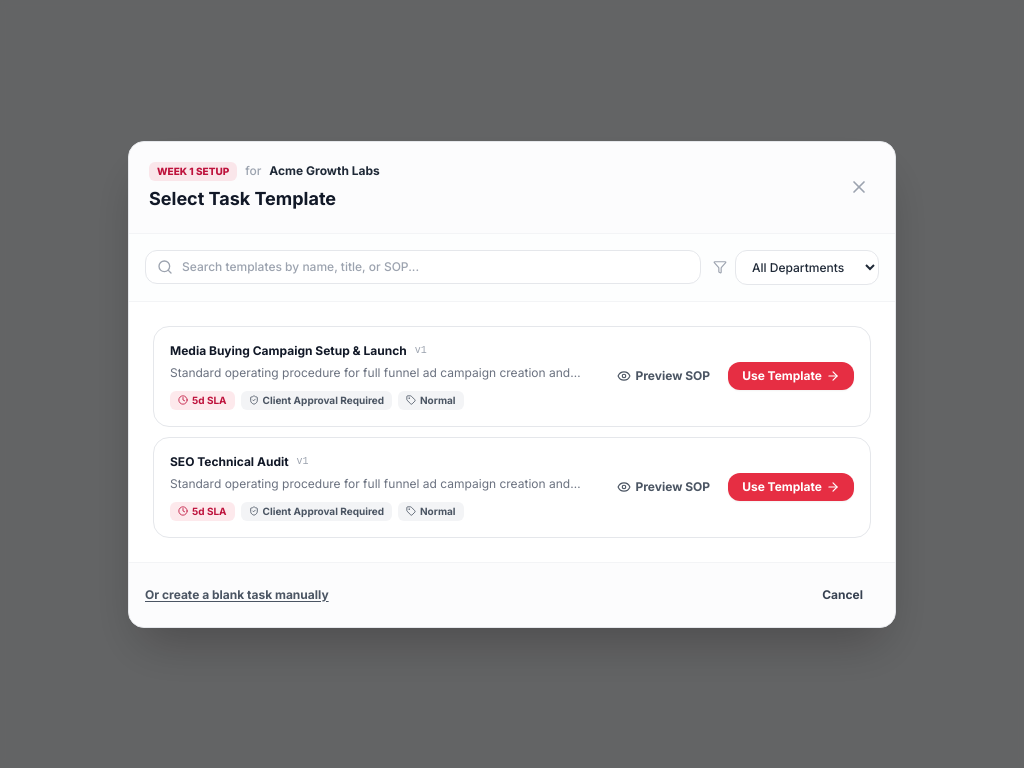
Test: Phase 3C: Task Templates System Comprehensive Suite › 3. Task Template Picker Modal › 3.2 Filters templates by search query
The width and height of the screenshot is (1024, 768).
Expected: the text "Media Buying Campaign Setup & Launch" is shown, [170,342,407,358]
Expected: the text "SEO Technical Audit" is shown, [170,454,289,470]
Type "SEO" into the field with placeholder "Search templates by name, title, or SOP...".
click(423, 266); type("SEO")  # box [145,250,701,284]
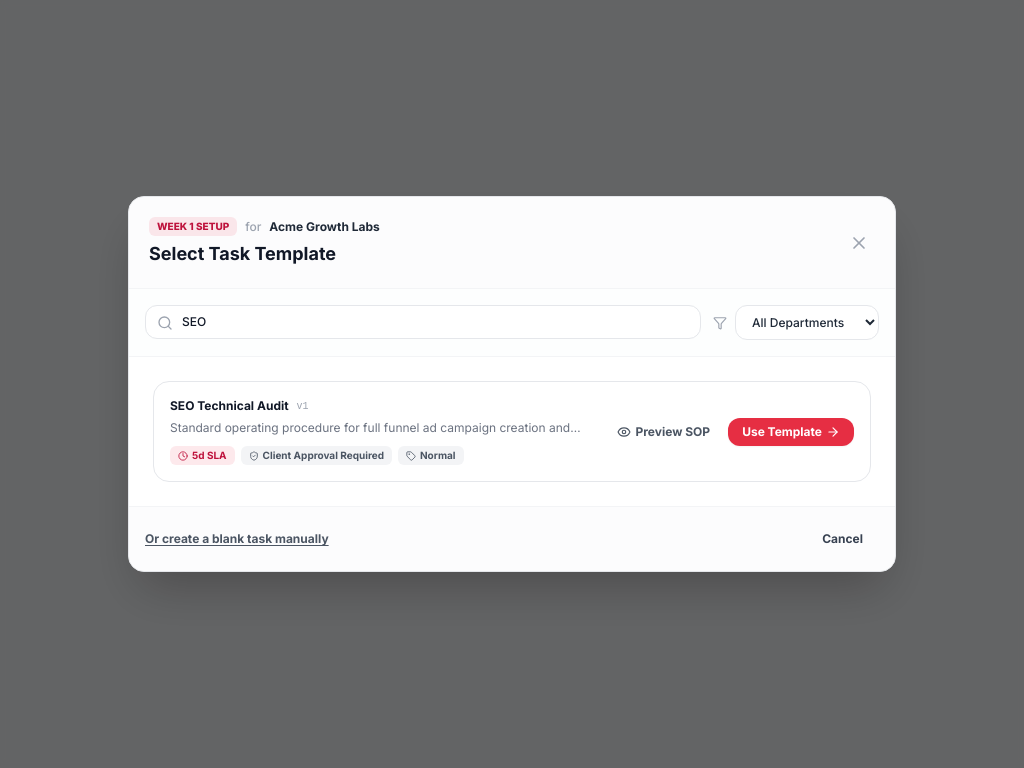
Expected: the text "SEO Technical Audit" is shown, [170,398,289,414]
Expected: the text "Media Buying Campaign Setup & Launch" is gone
